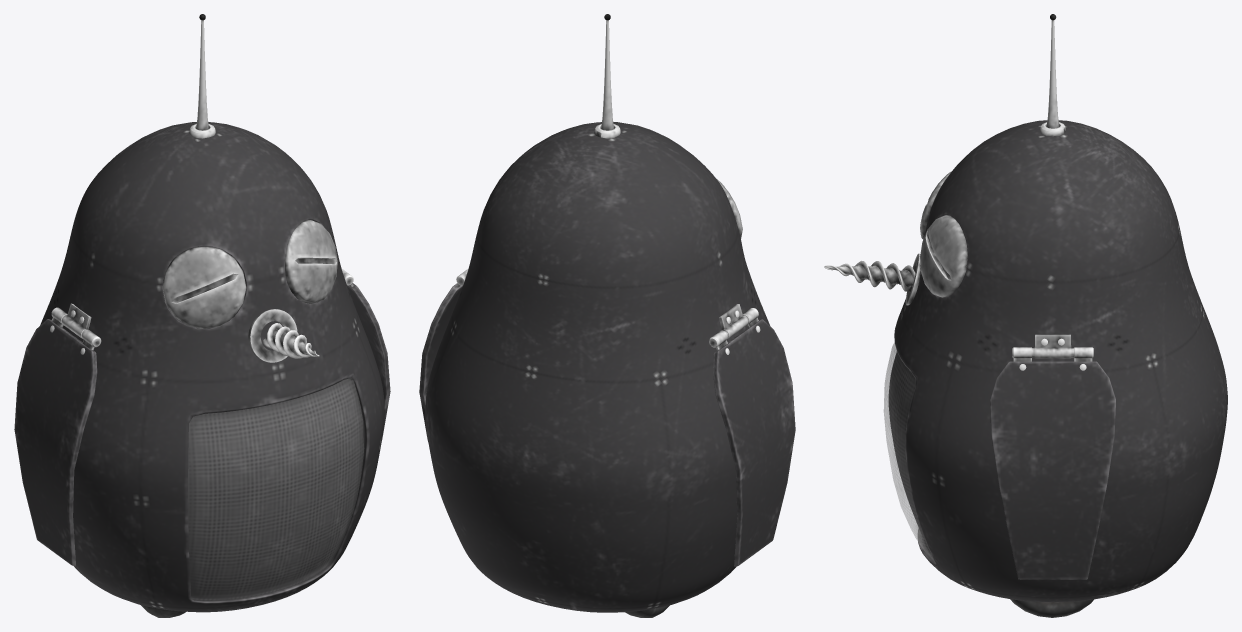
The model's file is penguin.glb.
3 views of the same model, side by side, from view 1: azimuth 30°, elevation 25°; view 2: azimuth 150°, elevation 25°; view 3: azimuth 270°, elevation 25° (orthographic).
Parts seen in each view (by area): view 1: penguinobj:penguin19; view 2: penguinobj:penguin19; view 3: penguinobj:penguin19.
Boxes of the visible parts, x1,y1,x2,y2 form: penguinobj:penguin19: (14,14,390,617); penguinobj:penguin19: (419,14,795,617); penguinobj:penguin19: (824,14,1227,617).
Bounding box in the file's own units: 1.03 × 1.8 × 1.14.
1 material, 1 textured.
